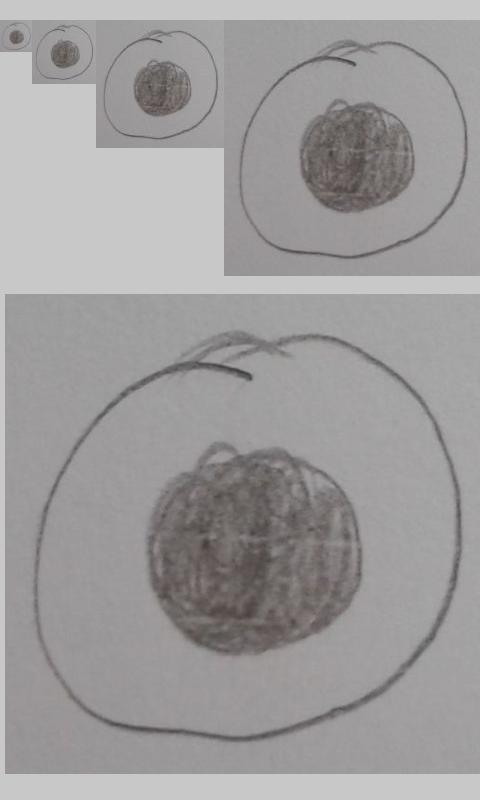radio_button: (30, 329, 466, 745), (237, 36, 471, 261), (102, 28, 219, 141), (35, 24, 94, 81), (1, 22, 32, 51)
